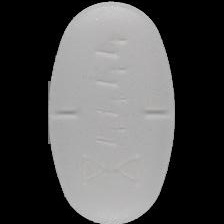0093-4444: (0, 0, 224, 224)
